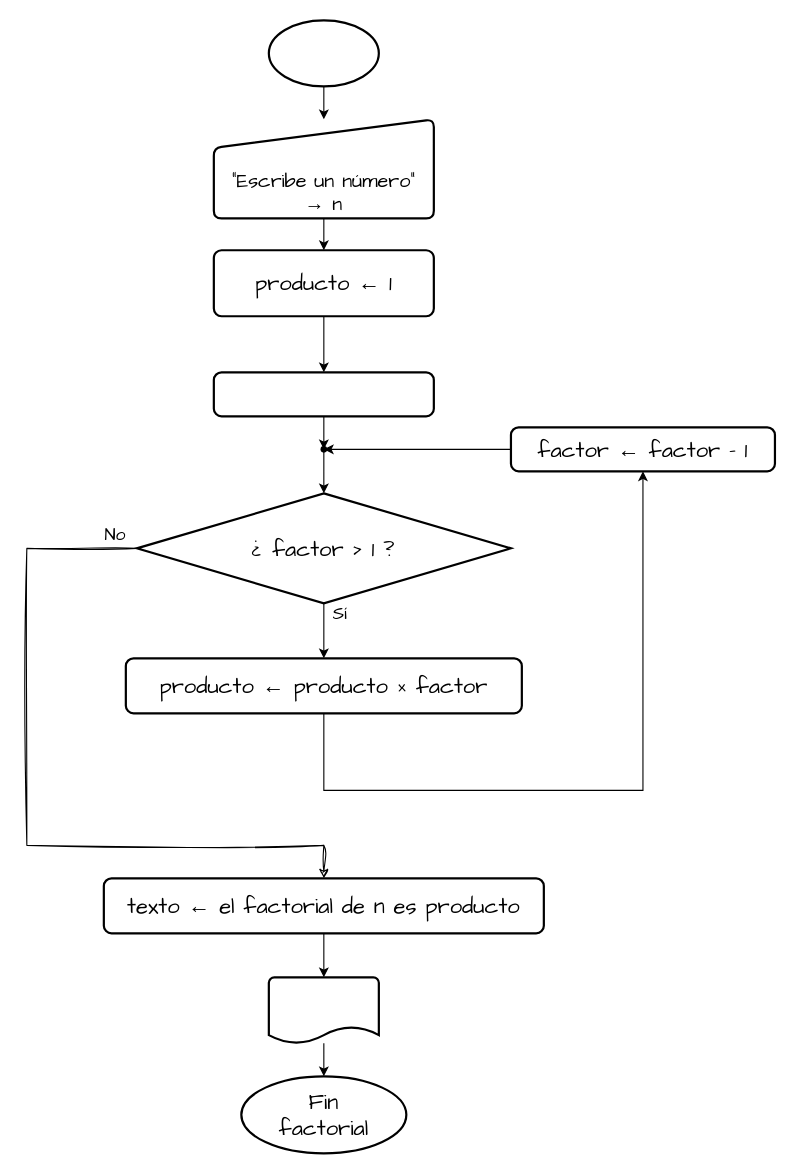
This 795x1173 diagram has some shape labels left out. The shapes that lost their labels are listed below. From the top down, each one's centre as x and y in pixels, then its label:
At pixel 323 53: "factorial".
At pixel 323 394: "factor ← n".
At pixel 323 1010: "texto".
